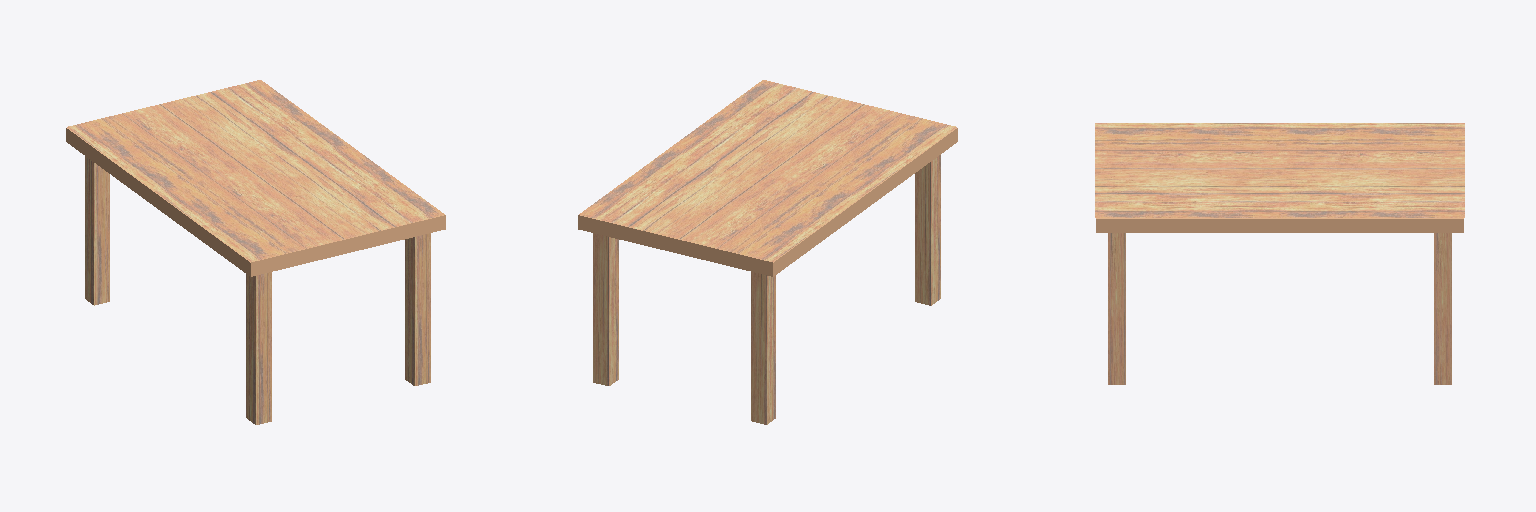
The picture shows the model from 3 angles: view 1: azimuth 30°, elevation 25°; view 2: azimuth 150°, elevation 25°; view 3: azimuth 270°, elevation 25°; orthographic projection.
Visible parts, largest first — view 1: 平面.001; view 2: 平面.001; view 3: 平面.001.
Boxes of the visible parts, box(x1,y1,x2,y2) form: 平面.001: box(66, 80, 445, 424); 平面.001: box(578, 80, 957, 424); 平面.001: box(1095, 123, 1464, 384).
Bounding box in the file's own units: 2.32 × 1.94 × 3.8.
1 materials, 1 textured.